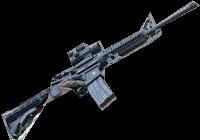gun: (1, 0, 200, 140)
